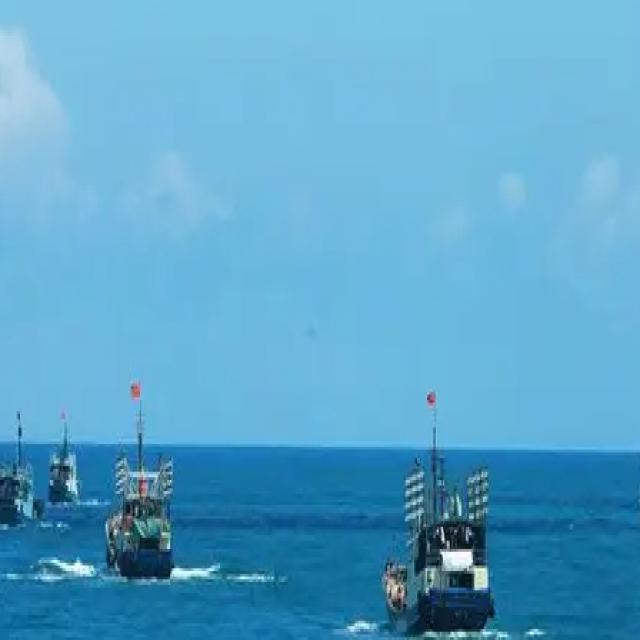fishing boat: (383, 382, 493, 632), (104, 377, 176, 579), (0, 408, 40, 527), (46, 401, 81, 501)
